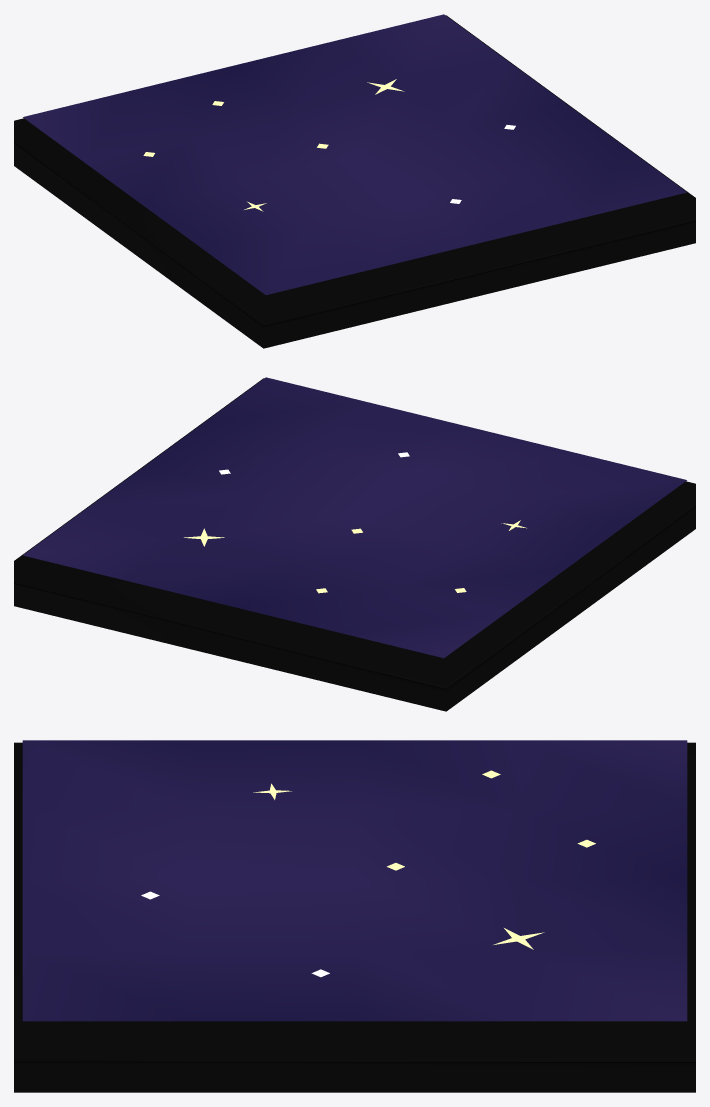
Rendered from floor_stage_b.glb.
3 views of the same model, one above another, from view 1: azimuth 30°, elevation 25°; view 2: azimuth 150°, elevation 25°; view 3: azimuth 270°, elevation 25° (orthographic). The views are drawn at different scales.
Visible parts, largest first — view 1: Tile.001; view 2: Tile.001; view 3: Tile.001, Glitter.
Part boxes in pixels (x1,y1,x2,y2): Tile.001: [14, 14, 695, 348]; Tile.001: [14, 377, 695, 711]; Tile.001: [14, 740, 695, 1092]; Glitter: [141, 770, 595, 977].
Size of the model in its own units: 1 by 0.114 by 1.
